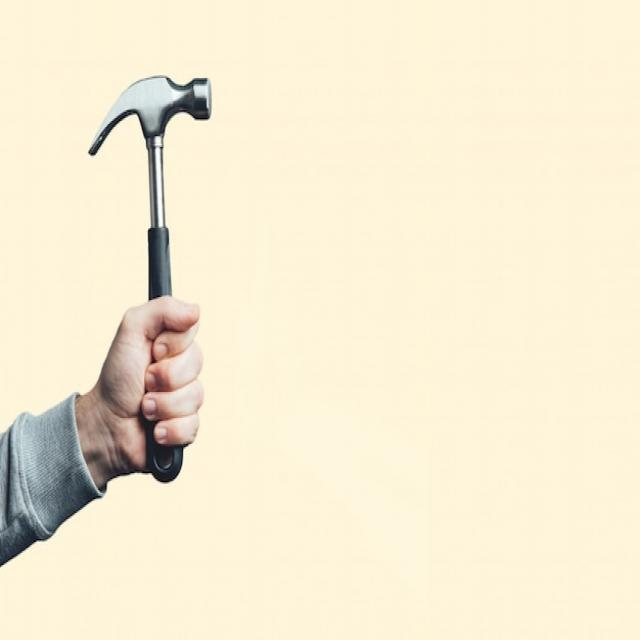hammer: (79, 65, 213, 498)
